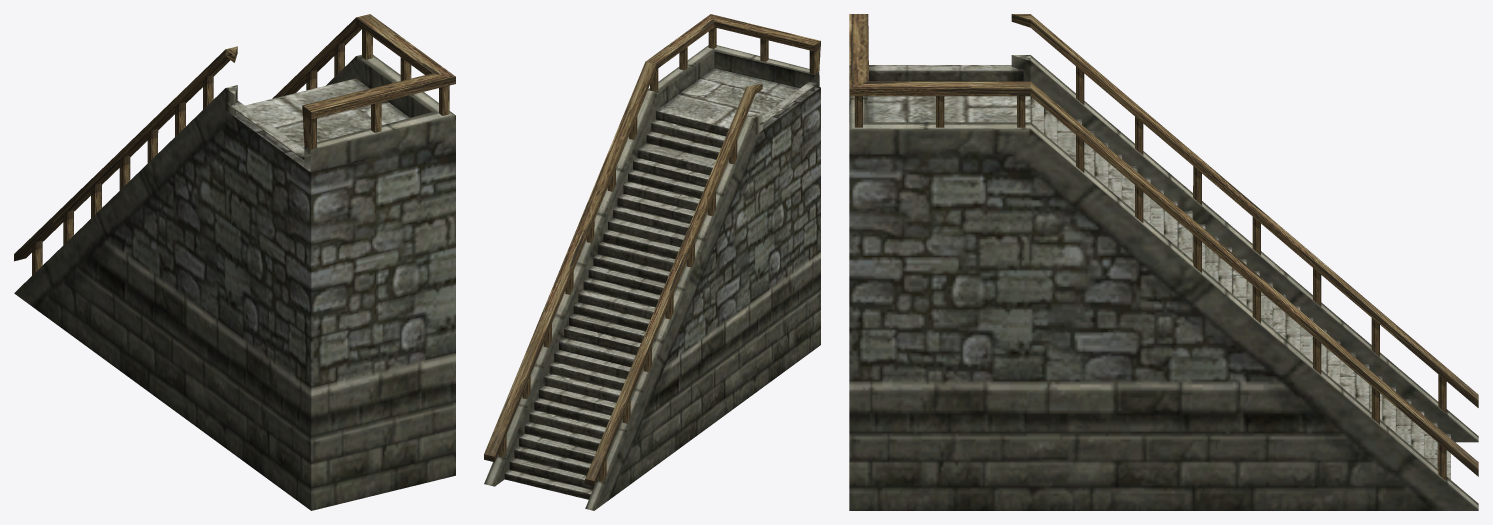
The model's file is general_obj_watchtower03.fbx.
The picture shows the model from 3 angles, left to right: view 1: azimuth 30°, elevation 25°; view 2: azimuth 150°, elevation 25°; view 3: azimuth 270°, elevation 25°; orthographic projection. The views are drawn at different scales.
Visible parts, largest first — view 1: Object02; view 2: Object02; view 3: Object02.
Part boxes in pixels (bbox=[...]): Object02: bbox=[14, 14, 455, 510]; Object02: bbox=[484, 14, 820, 510]; Object02: bbox=[849, 14, 1478, 510].
Bounding box in the file's own units: 2.91 × 7.49 × 10.12.
